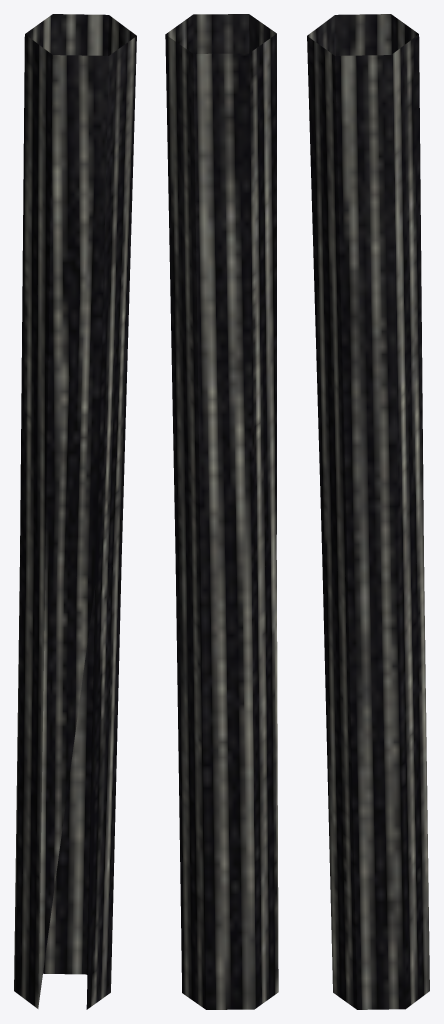
Rendered from Jack_pierna_izq.obj.
3 renders of one model, left to right at view 1: azimuth 90°, elevation 25°; view 2: azimuth 210°, elevation 25°; view 3: azimuth 270°, elevation 25°, orthographic.
Visible parts, largest first — view 1: rdmobj01.006_rdmobj01.009; view 2: rdmobj01.006_rdmobj01.009; view 3: rdmobj01.006_rdmobj01.009.
Part boxes in pixels (<box>): rdmobj01.006_rdmobj01.009: <box>14,14,136,1009</box>; rdmobj01.006_rdmobj01.009: <box>165,14,278,1009</box>; rdmobj01.006_rdmobj01.009: <box>307,14,429,1009</box>.
Bounding box in the file's own units: 0.06 × 0.6535 × 0.076.
Materials: 1 (1 with a texture image).
